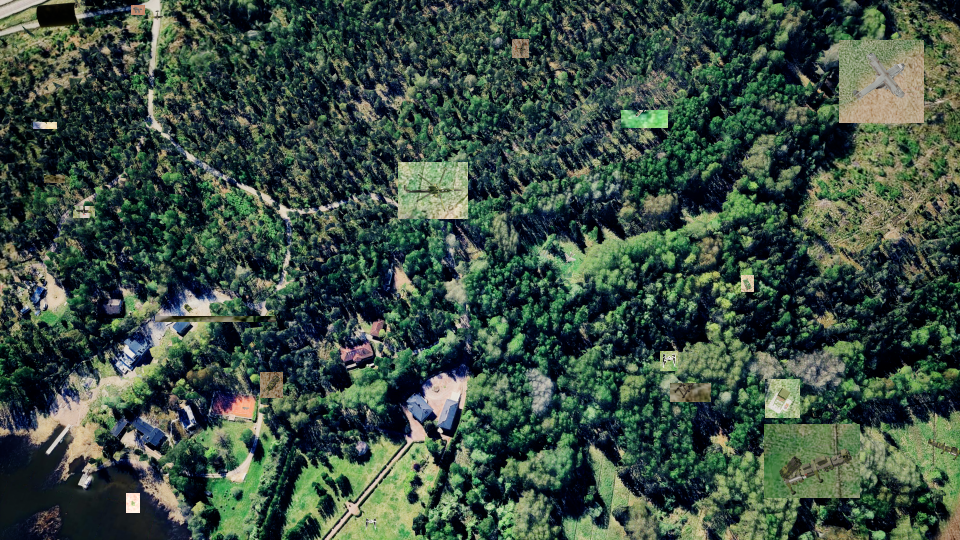condor: (839, 40, 924, 123)
hangar: (155, 316, 276, 322)
helicopter: (398, 162, 468, 219)
jammer: (741, 275, 754, 292)
jet_plane: (621, 110, 668, 128)
large_launcher: (764, 424, 860, 498)
large_tower: (670, 383, 711, 402)
medium_launcher: (44, 175, 65, 183)
medium_plane: (73, 206, 95, 218)
mine_roller: (260, 372, 283, 398)
small_launcher: (126, 493, 140, 513)
small_plane: (512, 39, 529, 58)
small_tower: (765, 379, 800, 418)
spacecraft: (660, 351, 678, 371)
ta-ta: (131, 5, 145, 15)
tank: (33, 122, 57, 129)
